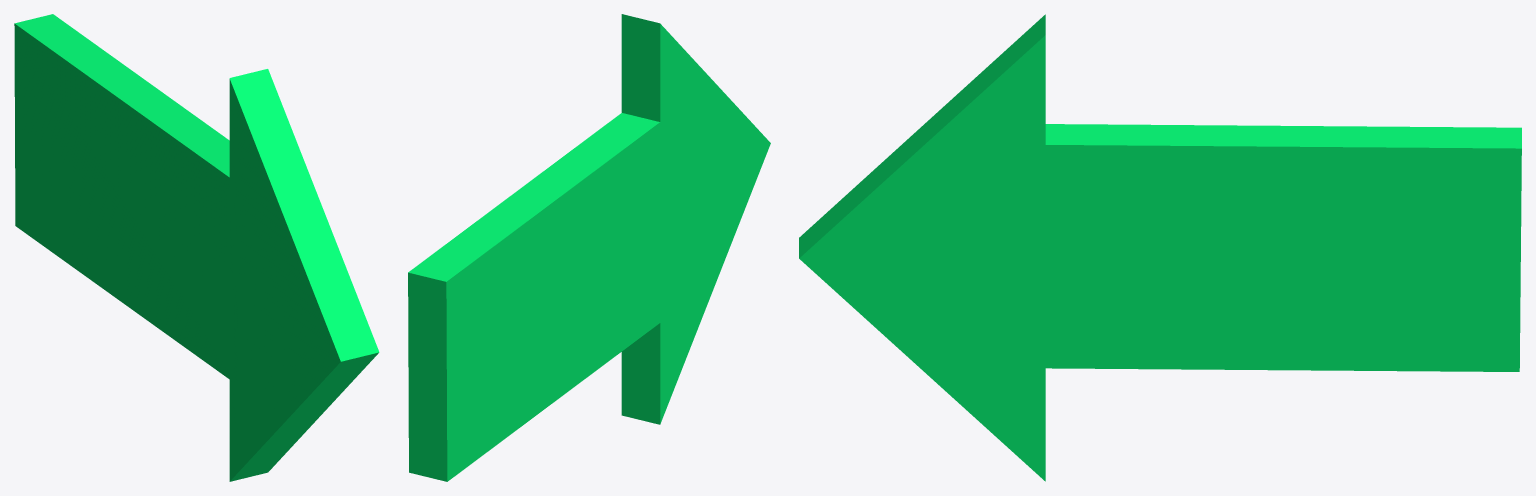
File: arrow.obj
3 renders of one model, left to right at view 1: azimuth 30°, elevation 25°; view 2: azimuth 150°, elevation 25°; view 3: azimuth 270°, elevation 25°, orthographic. The views are drawn at different scales.
Visible parts, largest first — view 1: Arrow; view 2: Arrow; view 3: Arrow.
Boxes of the visible parts, box(x1,y1,x2,y2) form: Arrow: box(14, 14, 379, 481); Arrow: box(408, 14, 770, 481); Arrow: box(799, 14, 1521, 481).
Bounding box in the file's own units: 0.5 × 5 × 7.33.
